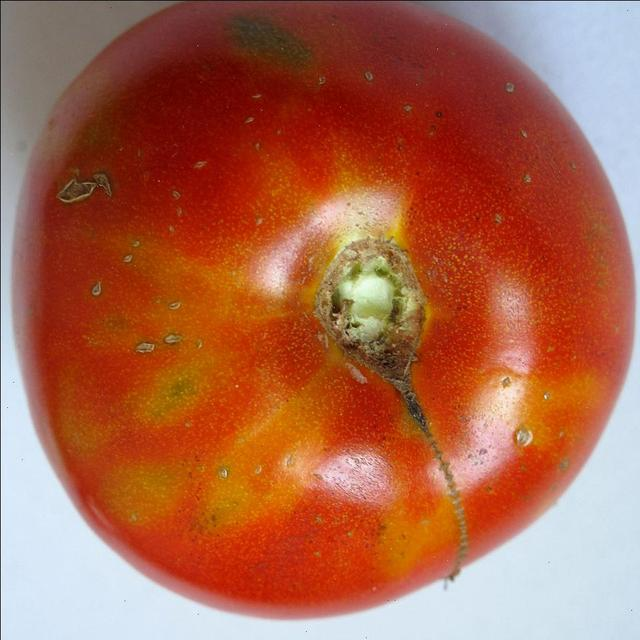Spotted wilt Virus Fruit: (66, 0, 176, 2)
